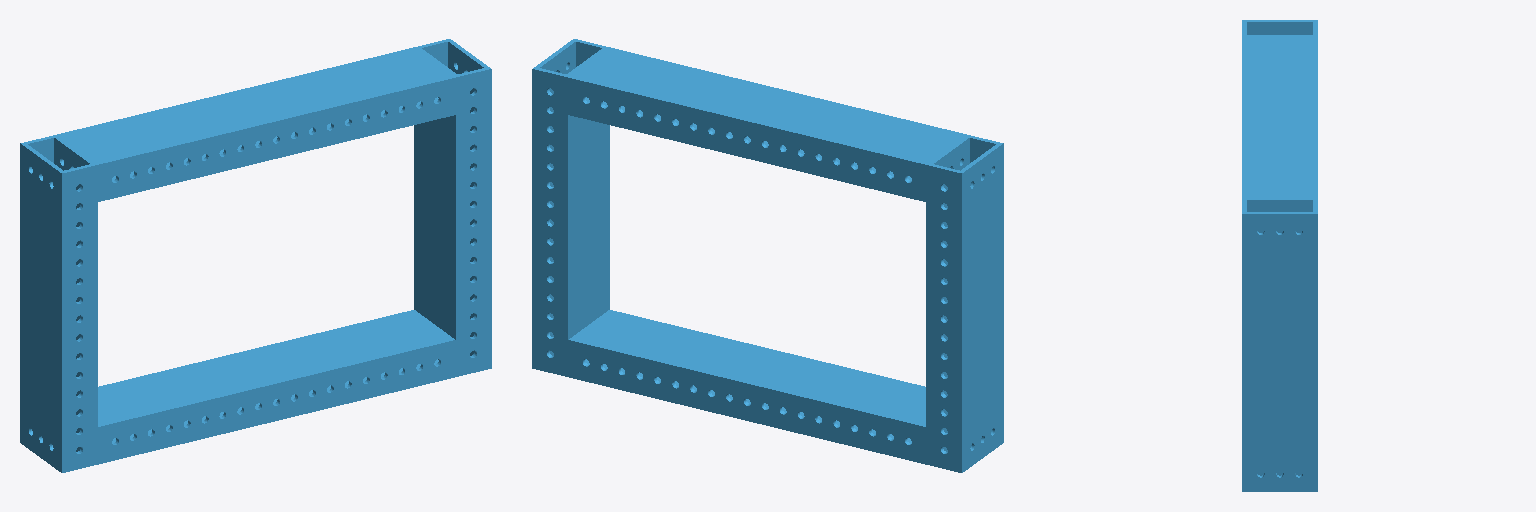
The robot description file, URDF, robot "SimpleSim_Example":
<?xml version="1.0" ?>
<robot name="SimpleSim_Example">
  <link name="Base">
    <visual>
      <geometry>
        <mesh filename="../generated_projects/SimpleSim_Example/meshes/Base.stl"/>
      </geometry>
    </visual>
    <collision>
      <geometry>
        <mesh filename="../generated_projects/SimpleSim_Example/meshes/Base.stl"/>
      </geometry>
    </collision>
    <inertial>
      <origin xyz="-0.007966152214825167 -0.008923170820092372 0.5829185338730535" rpy="0 0 0"/>
      <mass value="6.651333708331838"/>
      <inertia ixx="0.06651333708331839" ixy="0.0" ixz="0.0" iyy="0.06651333708331839" iyz="0.0" izz="0.06651333708331839"/>
    </inertial>
  </link>
  <link name="Carriage">
    <visual>
      <geometry>
        <mesh filename="../generated_projects/SimpleSim_Example/meshes/Carriage.stl"/>
      </geometry>
    </visual>
    <collision>
      <geometry>
        <mesh filename="../generated_projects/SimpleSim_Example/meshes/Carriage.stl"/>
      </geometry>
    </collision>
    <inertial>
      <origin xyz="4.968162423967752e-13 9.098708269687423e-06 0.11394265830629016" rpy="0 0 0"/>
      <mass value="1.255656511801627"/>
      <inertia ixx="0.012556565118016269" ixy="0.0" ixz="0.0" iyy="0.012556565118016269" iyz="0.0" izz="0.012556565118016269"/>
    </inertial>
  </link>
  <joint name="Elevator" type="prismatic">
    <parent link="Base"/>
    <child link="Carriage"/>
    <origin xyz="-0.004067949596099795 -0.0038826359001646648 0.347052019548392" rpy="0 0 0"/>
    <axis xyz="0.0 0.0 1.0"/>
    <limit lower="-0.3" upper="0.8" velocity="10.0" effort="150.0"/>
    <dynamics damping="10.0" friction="0.0"/>
  </joint>
</robot>

--- What the picture shows (computed from the rendered views, not written in the file) ---
The picture shows the robot from 3 angles, left to right: view 1: azimuth 30°, elevation 25°; view 2: azimuth 150°, elevation 25°; view 3: azimuth 270°, elevation 25°; orthographic projection.
Model SimpleSim_Example with 2 links and 1 joints (1 prismatic), rooted at Base, posed all joints at 0.
Visible links, largest first — view 1: Carriage; view 2: Carriage; view 3: Carriage.
Link boxes in pixels (bbox=[...]): Carriage: bbox=[20, 39, 491, 472]; Carriage: bbox=[532, 39, 1003, 472]; Carriage: bbox=[1242, 20, 1317, 491].
Size in the robot's own frame: 0.3048 by 0.0508 by 0.2032 metres.
1 mesh visuals loaded from 2 distinct referenced files (1 binary STL); not drawn: 1 (reference not matched to a file when rendering).